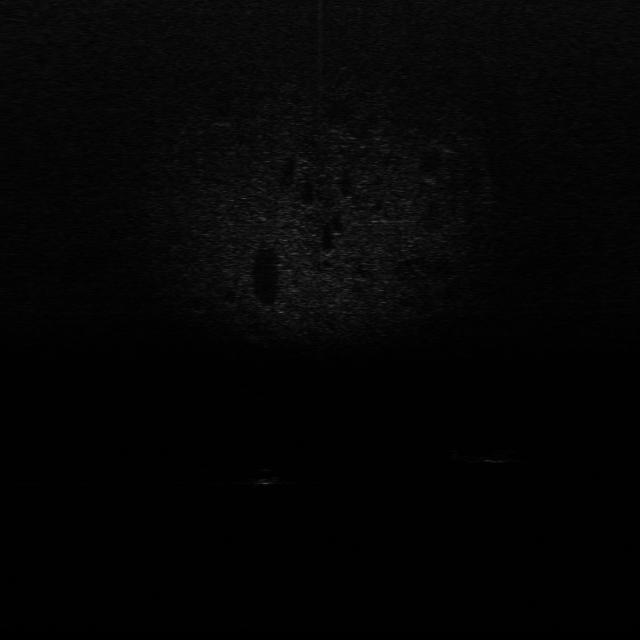ball: (246, 466, 283, 488)
human body: (448, 446, 523, 464)
